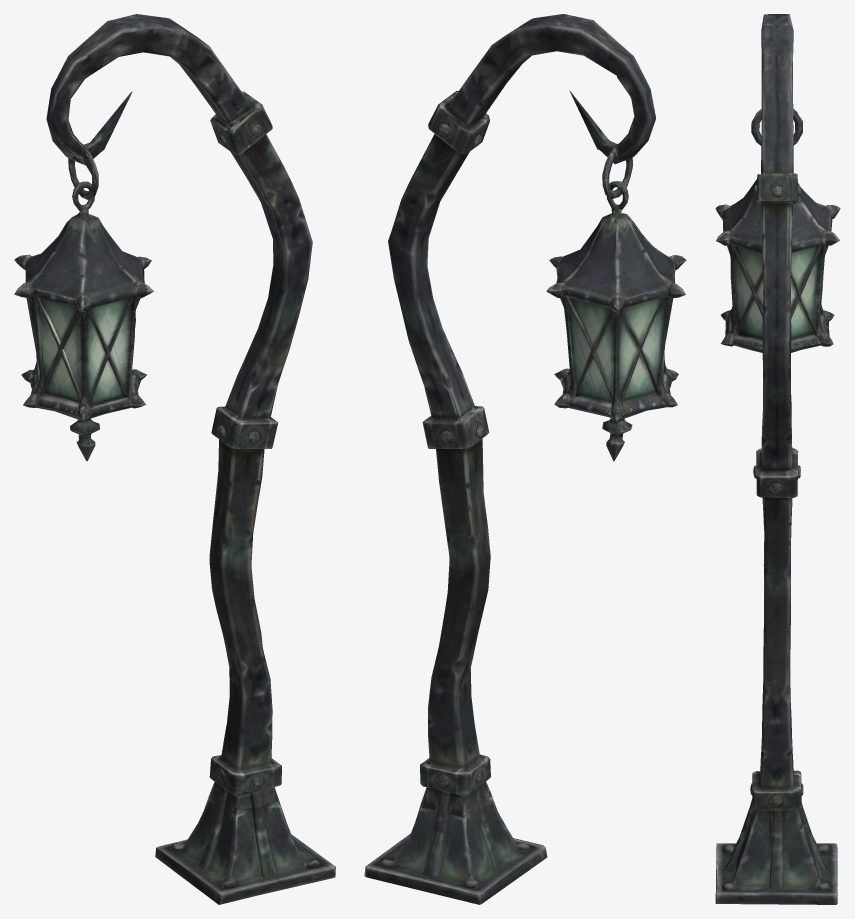
The model's file is wisp_lantern.glb.
3 views of the same model, side by side, from view 1: azimuth 30°, elevation 25°; view 2: azimuth 150°, elevation 25°; view 3: azimuth 270°, elevation 25° (orthographic). The views are drawn at different scales.
Parts seen in each view (by area): view 1: kit-wisp-lantern-1; view 2: kit-wisp-lantern-1; view 3: kit-wisp-lantern-1.
Part boxes in pixels (x1,y1,x2,y2): kit-wisp-lantern-1: [14, 14, 335, 904]; kit-wisp-lantern-1: [364, 14, 686, 904]; kit-wisp-lantern-1: [715, 14, 840, 904].
Size of the model in its own units: 0.8416 by 2.4 by 0.3384.
1 material, 1 textured.
